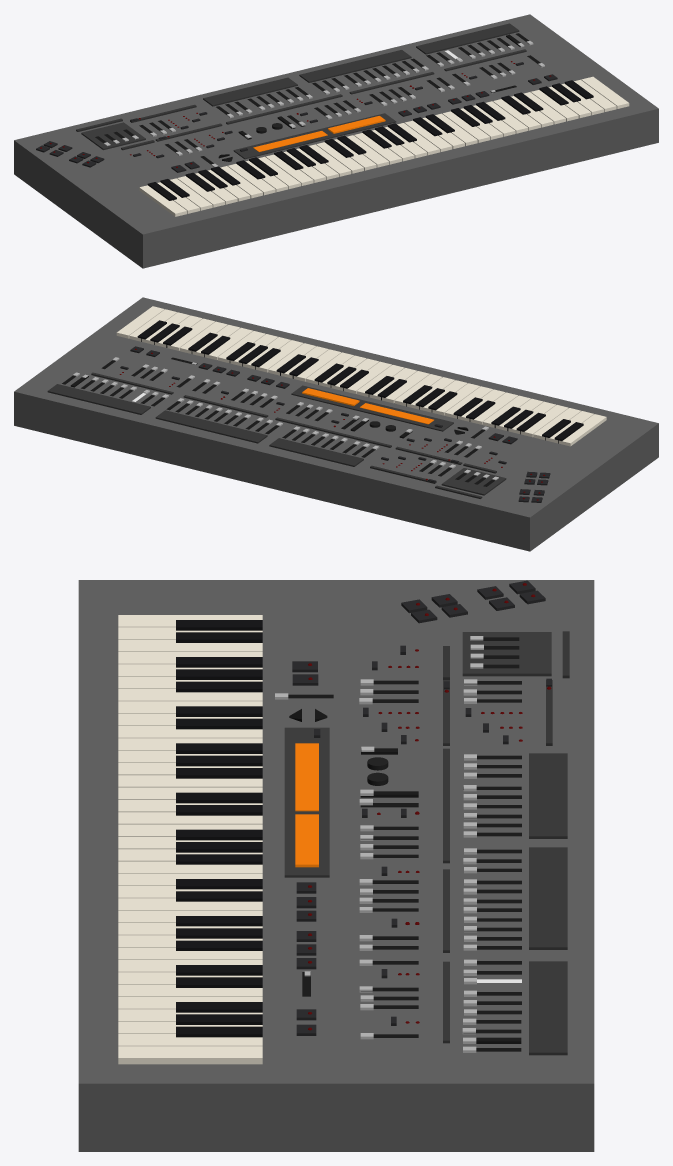
3 renders of one model, top to bottom at view 1: azimuth 30°, elevation 25°; view 2: azimuth 150°, elevation 25°; view 3: azimuth 270°, elevation 25°, orthographic. The views are drawn at different scales.
Visible parts, largest first — view 1: synth_body.1, panel1.1, panel3, panel3.1, panel2, panel1, Key_C1, Key_C6, panel1.2, Key_F1, Key_F4, Key_F5 (+18 smaller); view 2: synth_body.1, panel1.1, panel3, panel3.1, panel2, panel1, Key_C1, Key_C6, panel1.2, Key_F1, Key_F4, Key_F5 (+18 smaller); view 3: synth_body.1, panel1.1, panel3, panel3.1, panel1, panel2, Key_C6, panel1.2, Key_B2, Key_E2, Key_B1, Key_E3 (+58 smaller).
Boxes of the visible parts, box(x1,y1,x2,y2) form: synth_body.1: box(14, 14, 658, 268); panel1.1: box(233, 113, 396, 159); panel3: box(299, 50, 411, 82); panel3.1: box(416, 23, 519, 54); panel2: box(203, 77, 297, 106); panel1: box(81, 122, 145, 150); Key_C1: box(139, 185, 187, 216); Key_C6: box(581, 76, 629, 108); panel1.2: box(253, 131, 327, 151); Key_F1: box(177, 176, 225, 207); Key_F4: box(442, 111, 490, 142); Key_F5: box(530, 90, 578, 121); synth_body.1: box(14, 297, 658, 551); panel1.1: box(291, 385, 453, 431); panel3: box(155, 410, 267, 443); panel3.1: box(47, 384, 150, 414); panel2: box(269, 438, 363, 466); panel1: box(441, 468, 506, 495); Key_C1: box(558, 414, 606, 446); Key_C6: box(116, 306, 164, 338); panel1.2: box(360, 403, 433, 424); Key_F1: box(520, 405, 568, 437); Key_F4: box(255, 340, 303, 372); Key_F5: box(167, 318, 215, 350); synth_body.1: box(78, 580, 594, 1151); panel1.1: box(284, 727, 329, 877); panel3: box(529, 847, 567, 949); panel3.1: box(529, 961, 567, 1055); panel1: box(462, 632, 551, 676); panel2: box(529, 753, 567, 838); Key_C6: box(118, 1046, 262, 1064); panel1.2: box(295, 743, 318, 811); Key_B2: box(118, 775, 262, 787); Key_E2: box(118, 726, 262, 738); Key_B1: box(118, 689, 262, 701); Key_E3: box(118, 812, 262, 824).
Size of what is drawn, in the model's own units: 7.96 by 0.574 by 3.44.
